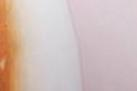rust: (1, 1, 21, 88)
